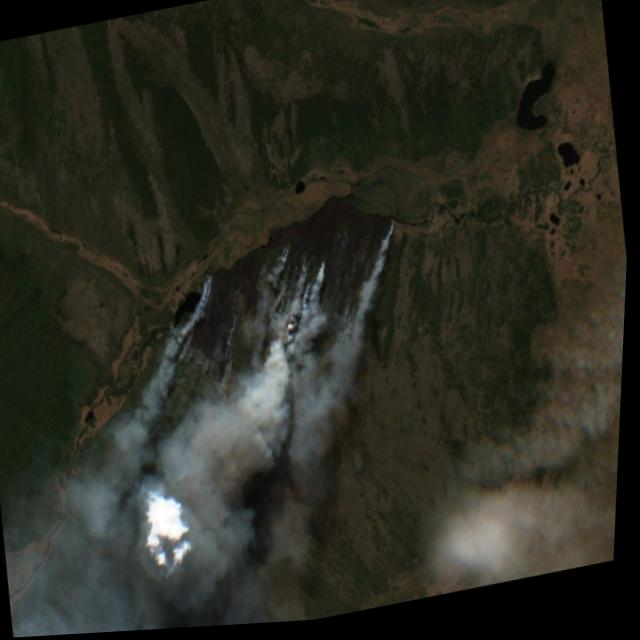fire: (178, 218, 419, 396)
